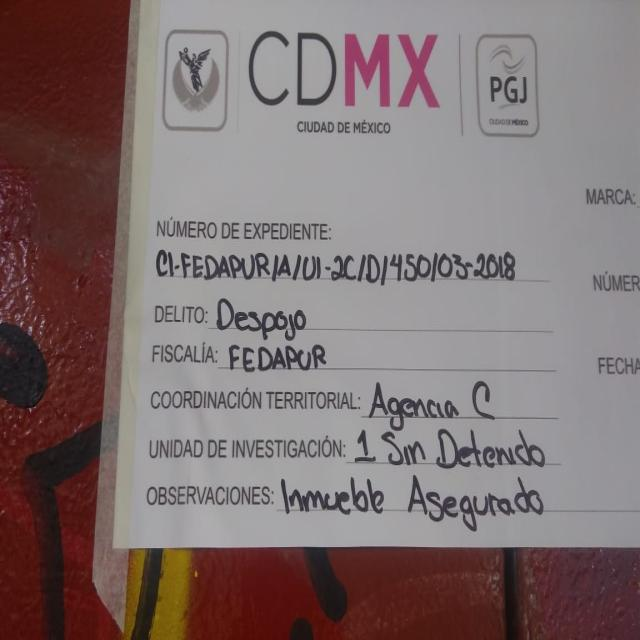stamps: (114, 6, 639, 550), (469, 27, 555, 149)
